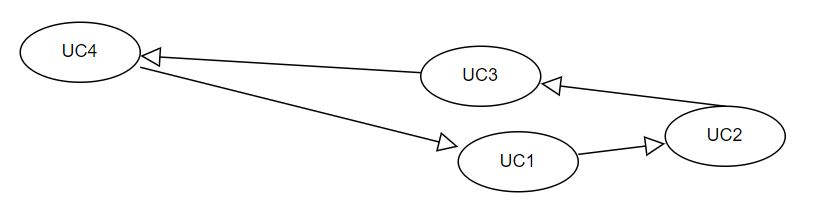generalization: (138, 65, 458, 153), (141, 46, 422, 81), (542, 75, 720, 107), (577, 137, 665, 156)
text: (59, 38, 101, 62), (696, 123, 746, 142), (458, 64, 501, 86), (495, 151, 538, 169)
use_case: (663, 104, 786, 168), (422, 45, 542, 108), (20, 20, 141, 82), (458, 131, 579, 193)
